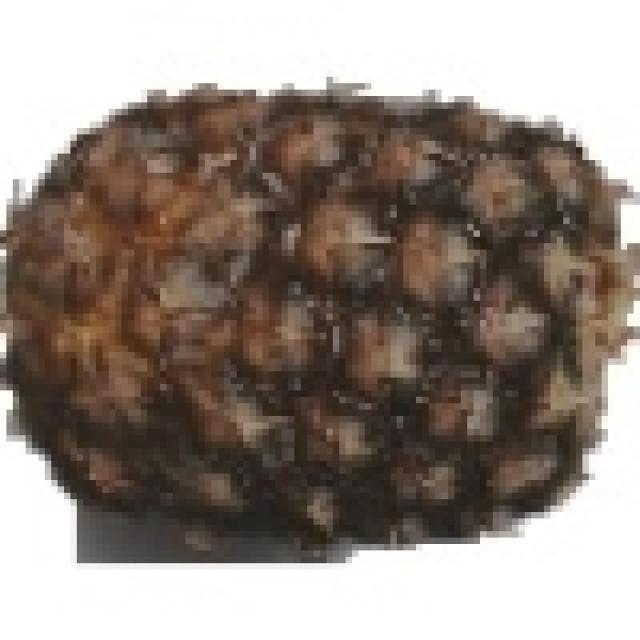pineapple: (26, 77, 634, 544)
